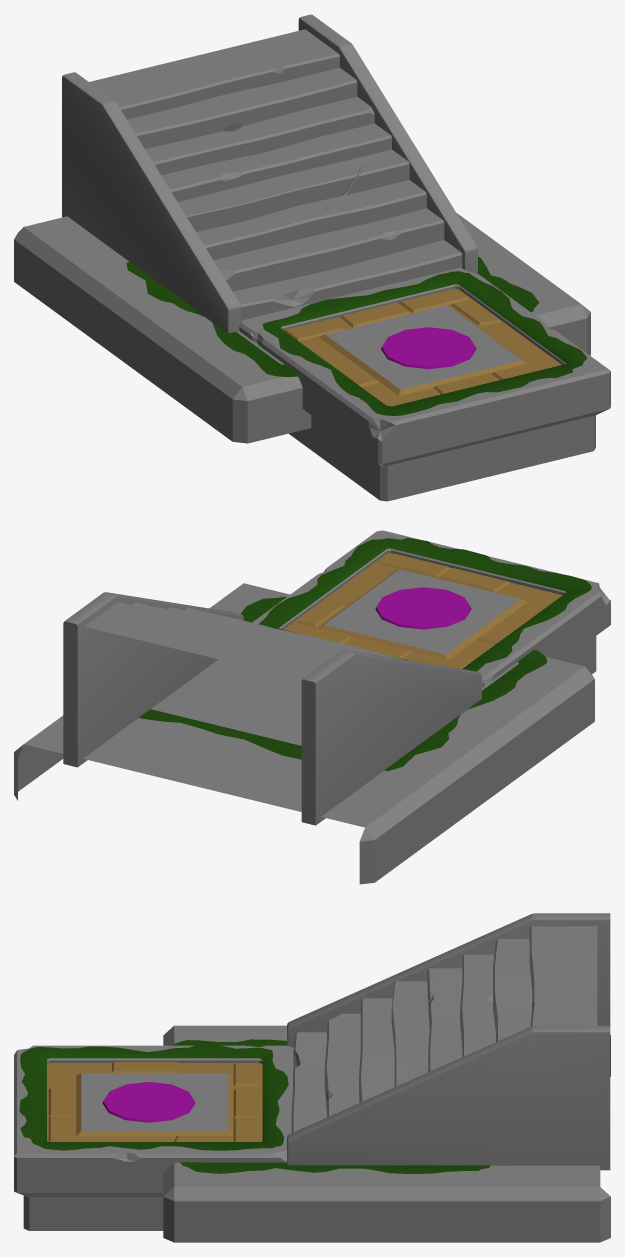
File: Jungle_Stair.fbx
3 renders of one model, top to bottom at view 1: azimuth 30°, elevation 25°; view 2: azimuth 150°, elevation 25°; view 3: azimuth 270°, elevation 25°, orthographic. The views are drawn at different scales.
Visible parts, largest first — view 1: Jungle_Stair; view 2: Jungle_Stair; view 3: Jungle_Stair.
Boxes of the visible parts, x1=… form: Jungle_Stair: x1=14, y1=14, x2=610, y2=501; Jungle_Stair: x1=14, y1=530, x2=610, y2=884; Jungle_Stair: x1=14, y1=913, x2=610, y2=1242.
Size of the model in its own units: 40.92 by 23.11 by 60.59.
